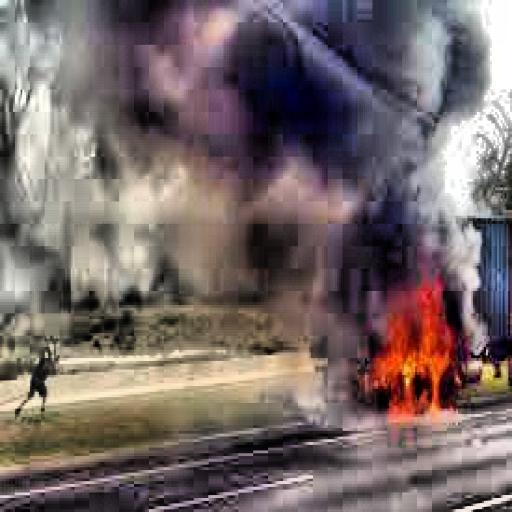fire: (354, 266, 467, 425)
